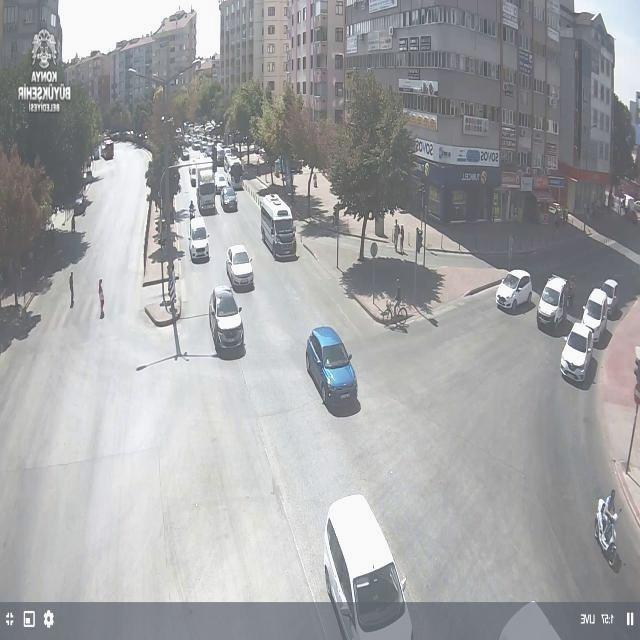Car: (297, 311, 368, 418), (208, 286, 245, 356), (560, 322, 596, 379), (538, 274, 570, 324), (496, 269, 532, 311), (225, 244, 254, 290), (581, 290, 607, 338), (188, 218, 210, 260), (598, 278, 620, 314), (220, 185, 238, 211), (189, 166, 198, 186), (181, 148, 189, 160)
Cycle: (371, 284, 413, 337)
Truck: (196, 172, 218, 212)
Van: (323, 495, 409, 633), (258, 193, 296, 259), (224, 152, 248, 190)
